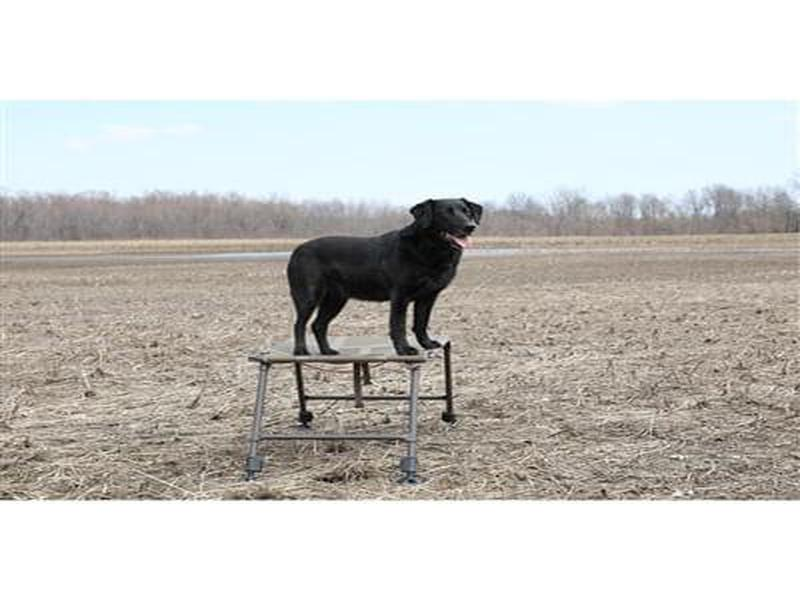dog_stand: (284, 196, 488, 355)
